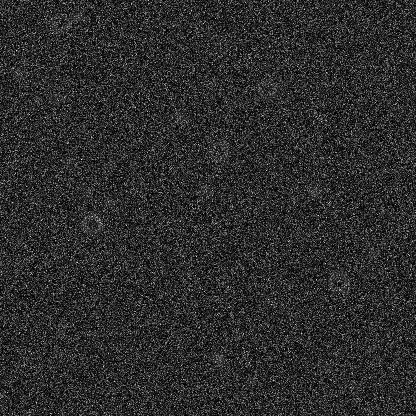Ring: (206, 139, 230, 163), (325, 269, 349, 293), (79, 211, 103, 235), (48, 11, 72, 35), (243, 187, 267, 211), (254, 77, 278, 101)
Spot: (100, 155, 116, 171), (206, 73, 222, 89), (109, 317, 125, 333), (102, 193, 118, 209), (170, 108, 186, 124), (49, 90, 65, 106), (305, 183, 321, 199), (24, 192, 40, 208), (196, 180, 212, 196), (243, 371, 259, 387), (70, 8, 86, 24), (10, 66, 26, 82), (211, 351, 227, 367), (365, 245, 381, 261), (86, 327, 102, 343), (78, 184, 94, 200)
